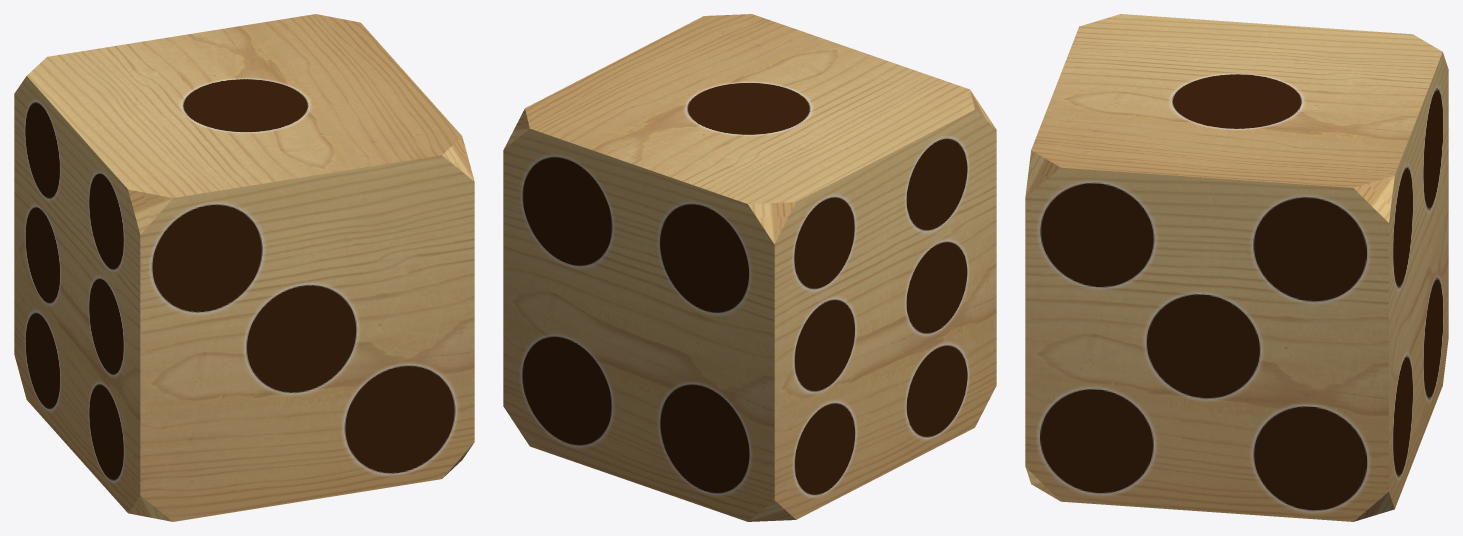
Rendered from dice.FBX.
3 renders of one model, left to right at view 1: azimuth 30°, elevation 25°; view 2: azimuth 150°, elevation 25°; view 3: azimuth 270°, elevation 25°, orthographic. The views are drawn at different scales.
Parts seen in each view (by area): view 1: Box001; view 2: Box001; view 3: Box001.
Part boxes in pixels (x1=…): Box001: x1=14, y1=14, x2=474, y2=521; Box001: x1=503, y1=14, x2=996, y2=521; Box001: x1=1025, y1=14, x2=1448, y2=521.
Size of the model in its own units: 3.45 by 3 by 3.45.
7 materials, 7 textured.
